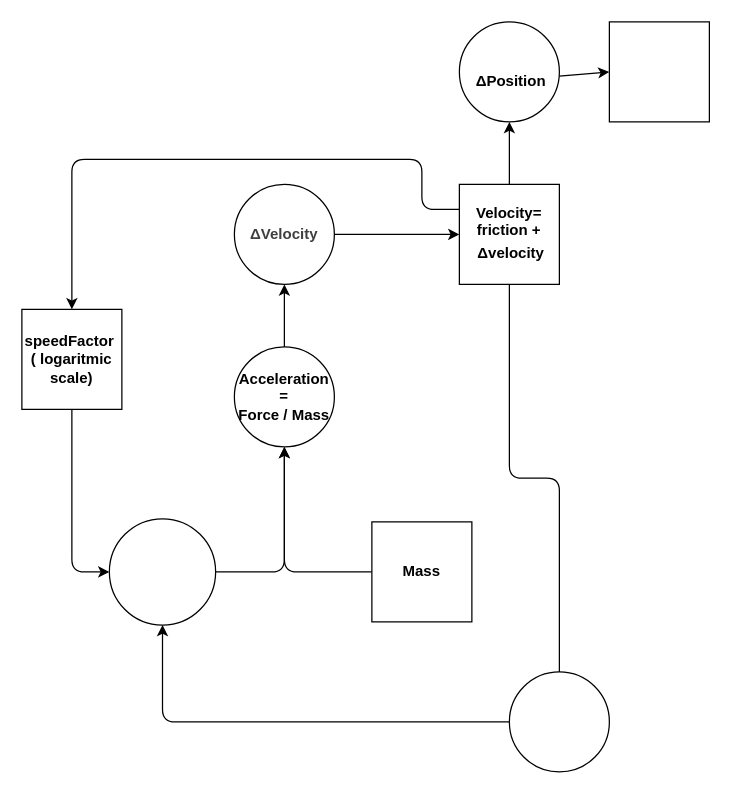
This 731x794 diagram has some shape labels left out. Each missing label, with the centre of its shape:
Force *= speedFactor: the point at 162,571
Friction = -vel * frictionCoeff: the point at 558,721
Position: the point at 658,71
